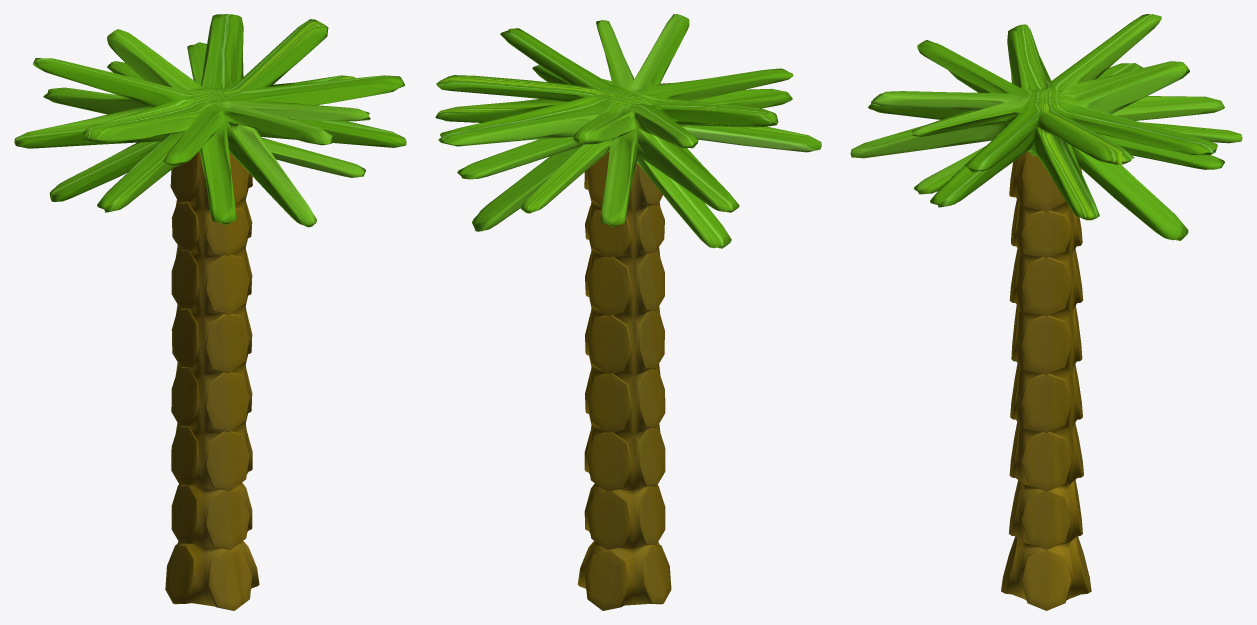
File: Palm_tree.fbx
The picture shows the model from 3 angles, left to right: view 1: azimuth 30°, elevation 25°; view 2: azimuth 150°, elevation 25°; view 3: azimuth 270°, elevation 25°; orthographic projection.
Visible parts, largest first — view 1: pCube2; view 2: pCube2; view 3: pCube2.
Boxes of the visible parts, x1,y1,x2,y2 form: pCube2: (14, 14, 406, 610); pCube2: (435, 14, 821, 610); pCube2: (850, 14, 1242, 610).
Size of the model in its own units: 7.14 by 11.22 by 7.62.
